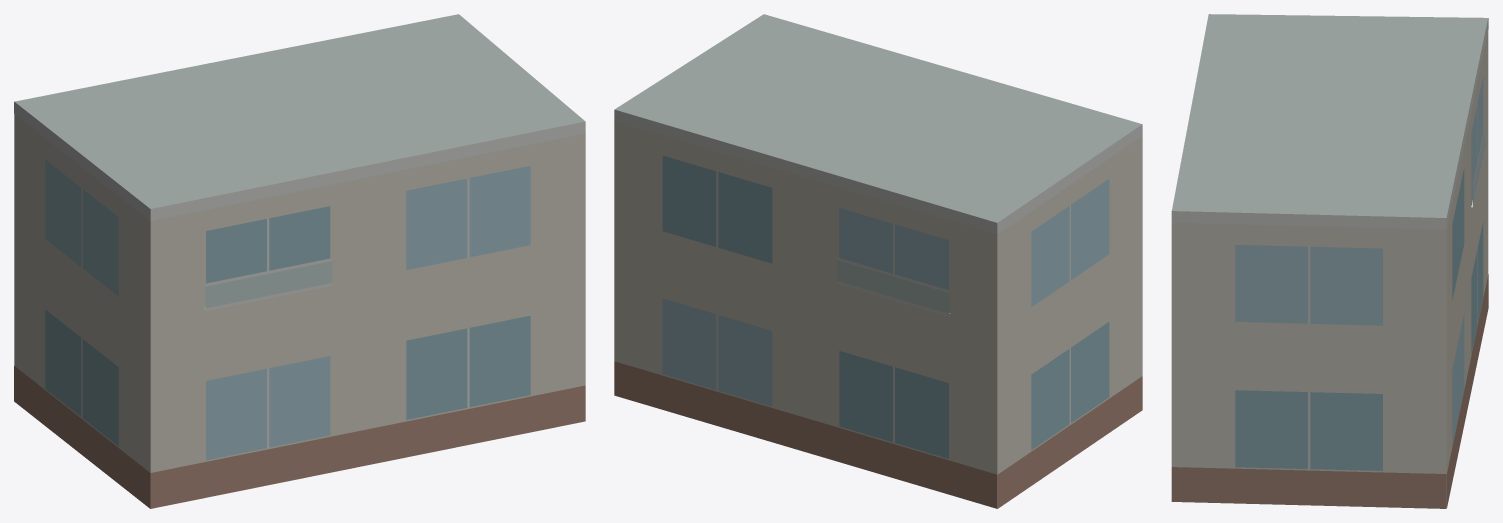
The model's file is survey-upis-32467510.glb.
The picture shows the model from 3 angles, left to right: view 1: azimuth 30°, elevation 25°; view 2: azimuth 150°, elevation 25°; view 3: azimuth 270°, elevation 25°; orthographic projection. The views are drawn at different scales.
Visible parts, largest first — view 1: survey-upis-32467510.tmp; view 2: survey-upis-32467510.tmp; view 3: survey-upis-32467510.tmp.
Boxes of the visible parts, x1,y1,x2,y2 form: survey-upis-32467510.tmp: (14,14,585,508); survey-upis-32467510.tmp: (614,14,1142,508); survey-upis-32467510.tmp: (1171,14,1488,508).
Size of the model in its own units: 9.19 by 6.1 by 6.03.
